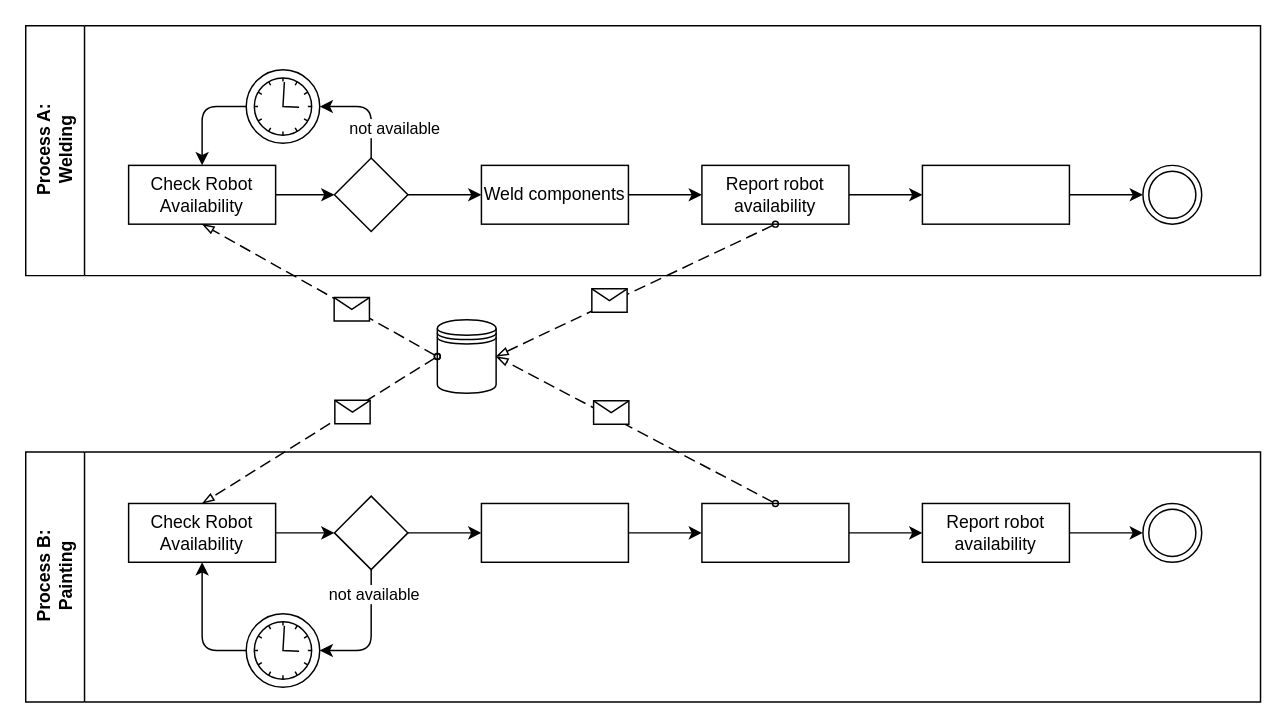
The diagram is 1286 pixels wide and 728 high, and some of its shapes have lost their labels. The shapes that lost their labels are listed below. From the top down, each one's centre as x and y in pixels, then its label:
[995,194]: Package Welded
[466,355]: Robot Arm
[554,532]: Remodel Robot for Painting
[774,532]: Paint Components on robot
